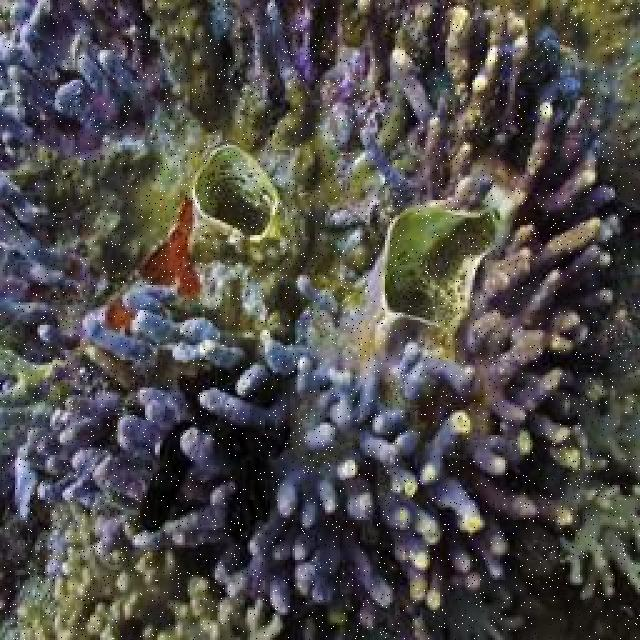fish: (141, 197, 201, 296), (104, 293, 140, 329)
